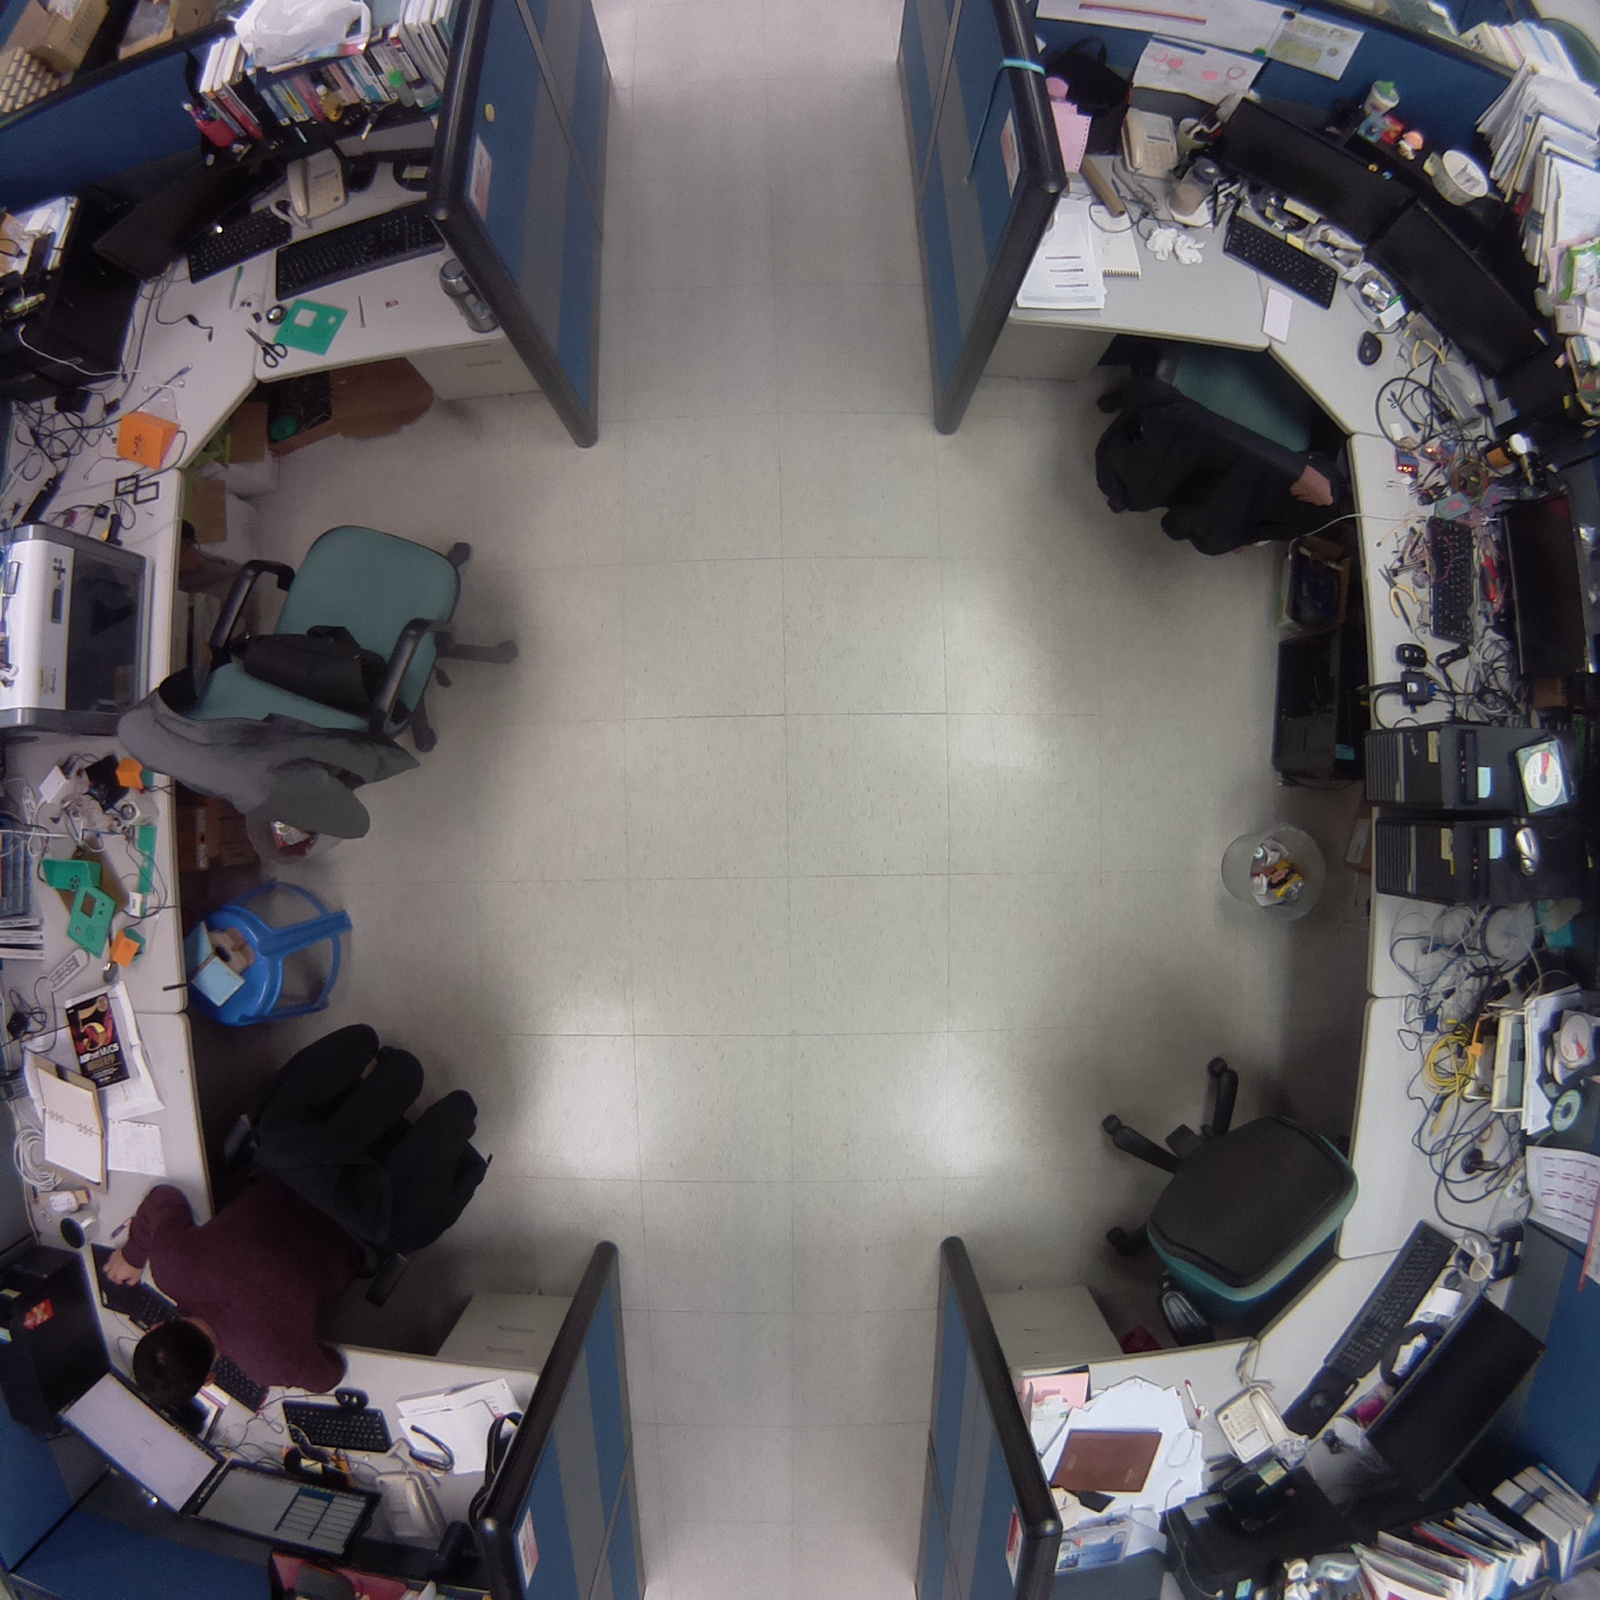chair: (94, 504, 548, 851), (1067, 1048, 1382, 1364), (1083, 302, 1392, 582)
sitting: (88, 1002, 522, 1437)
